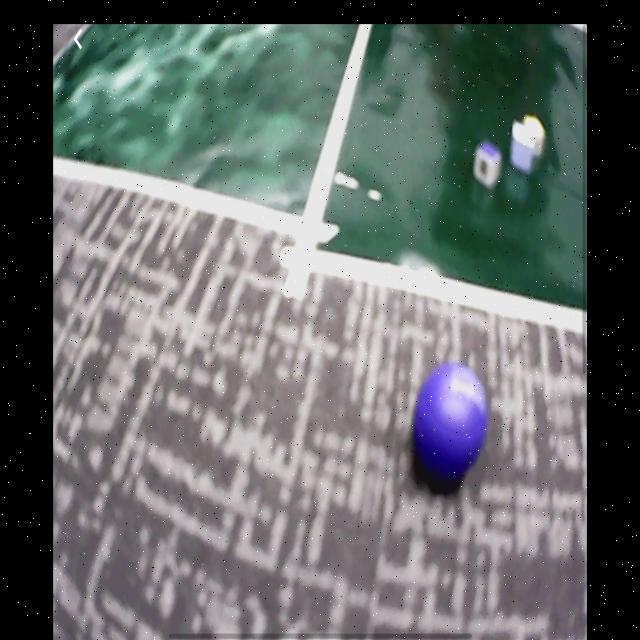ball: (414, 362, 490, 471)
